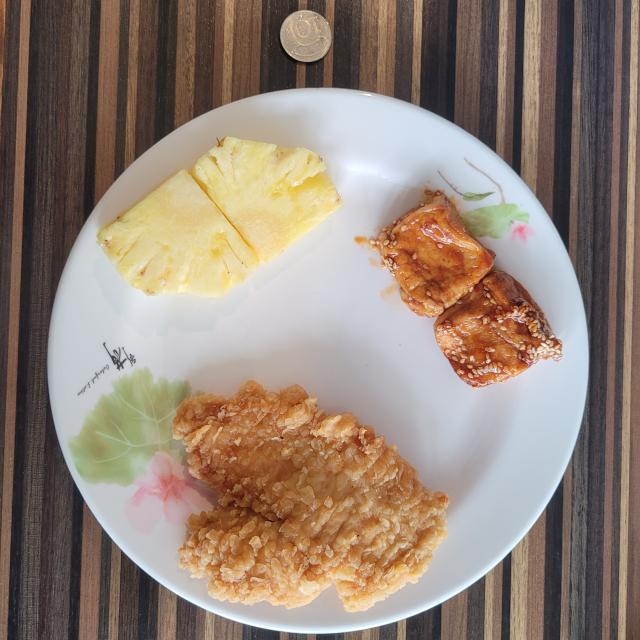coin: (280, 10, 332, 62)
creamy tofu: (375, 191, 561, 388)
fried chicken cutlet: (172, 381, 449, 612)
pineapple: (98, 138, 342, 298)
